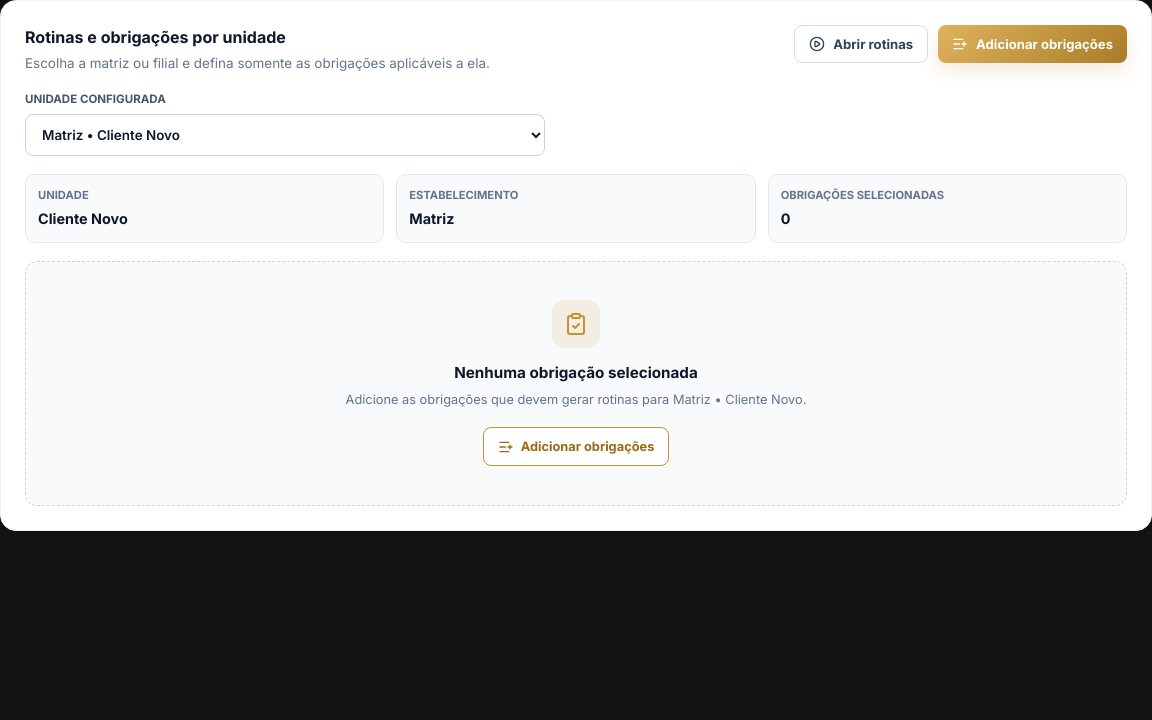
Test: TabProtocolosEntregas › parte do estado vazio e salva a seleção explícita com a versão CAS carregada
Expected: the heading "Nenhuma obrigação selecionada" is shown, [454, 362, 698, 385]
Expected: the text "DCTFWeb" is not shown
Click the button "Adicionar obrigações" below "Matriz • Cliente Novo": coordinates (576, 447) [483, 427, 669, 466]
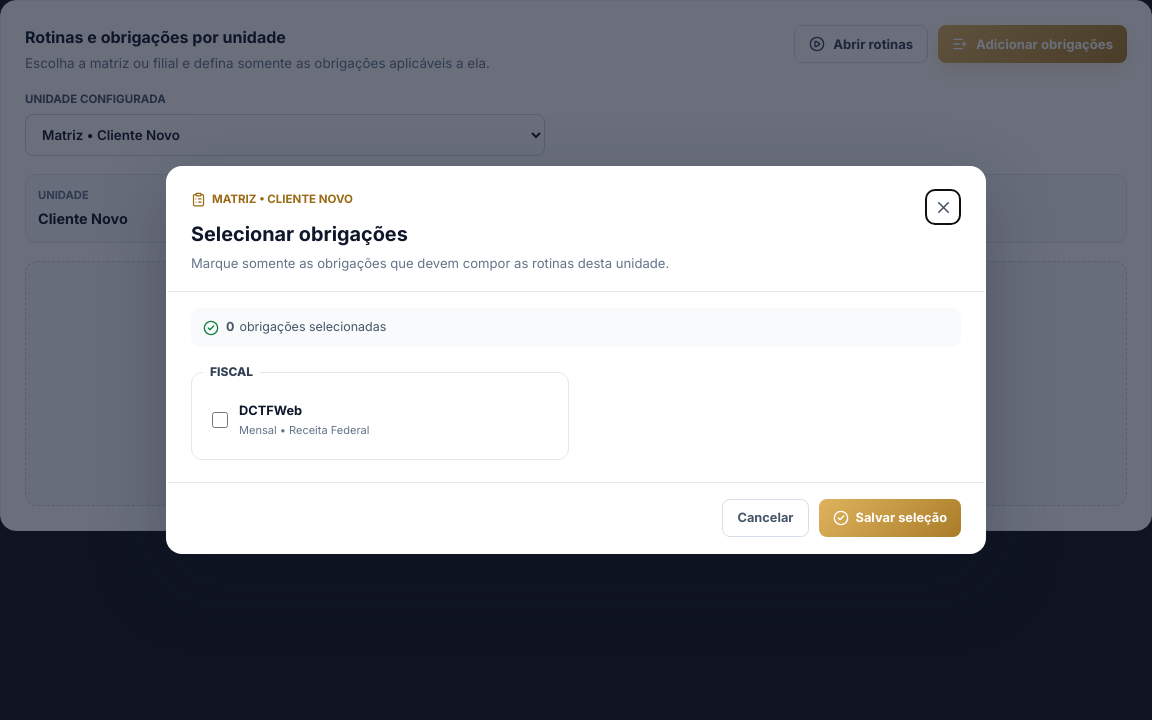
Expected: the dialog "Selecionar obrigações" is shown, [166, 166, 986, 554]
Expected: the checkbox labelled "DCTFWeb Mensal • Receita Federal" is not checked
Click the checkbox labelled "DCTFWeb Mensal • Receita Federal": coordinates (220, 420) [212, 412, 228, 428]
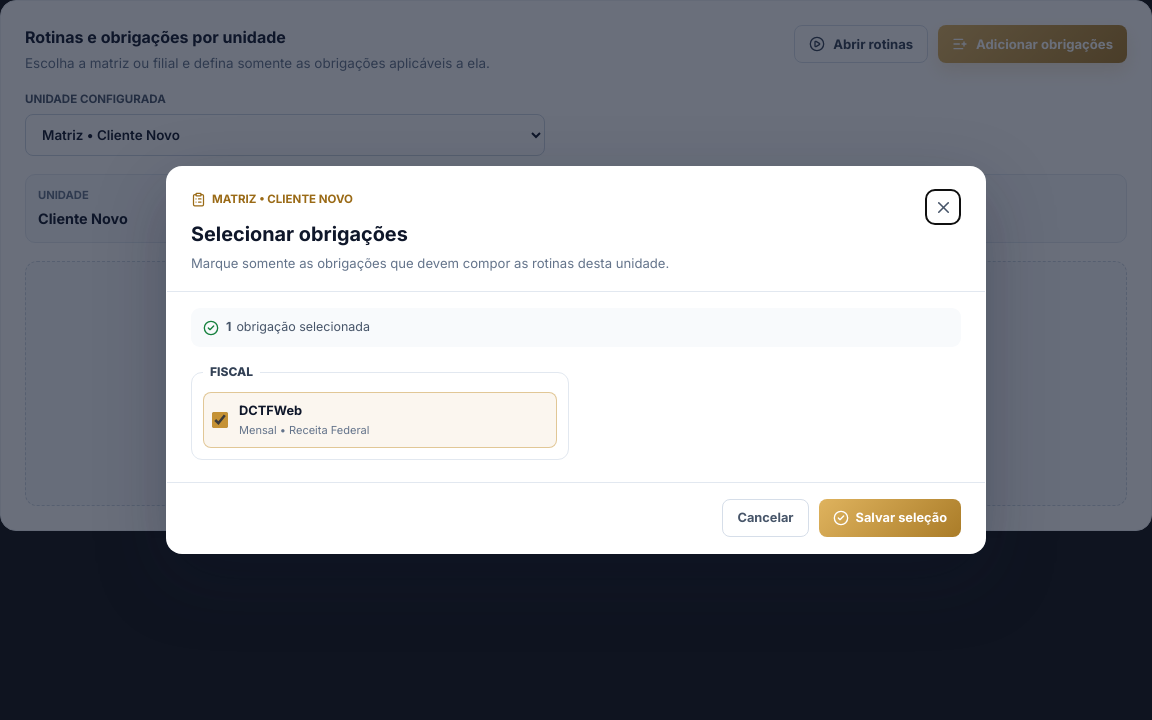
Click the button "Salvar seleção": coordinates (890, 518) [819, 499, 961, 537]
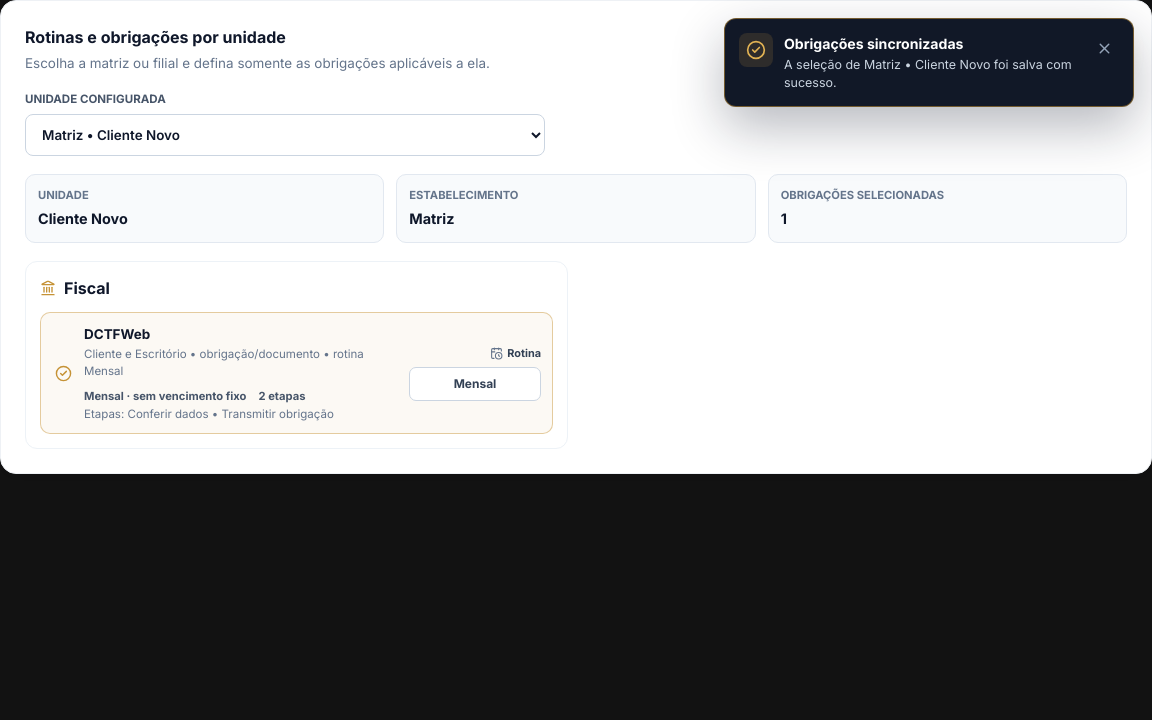
Expected: the text "DCTFWeb" is shown, [84, 326, 150, 342]
Expected: the dialog is gone
Expected: the button "Editar obrigações" is shown, [962, 25, 1127, 63]
